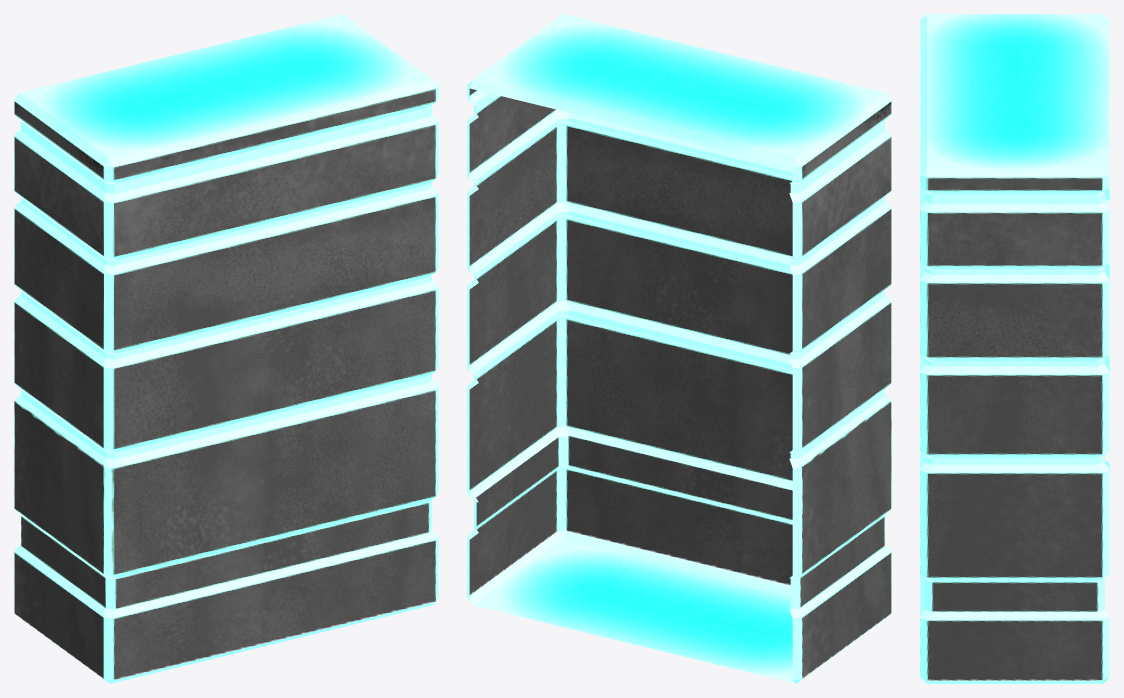
File: Column_001_Small.fbx
The picture shows the model from 3 angles, left to right: view 1: azimuth 30°, elevation 25°; view 2: azimuth 150°, elevation 25°; view 3: azimuth 270°, elevation 25°; orthographic projection.
Parts seen in each view (by area): view 1: Column_001_Small; view 2: Column_001_Small; view 3: Column_001_Small.
Part boxes in pixels (<box>): Column_001_Small: <box>14,14,438,683</box>; Column_001_Small: <box>467,14,891,683</box>; Column_001_Small: <box>920,14,1109,683</box>.
Bounding box in the file's own units: 200 × 300 × 100.
